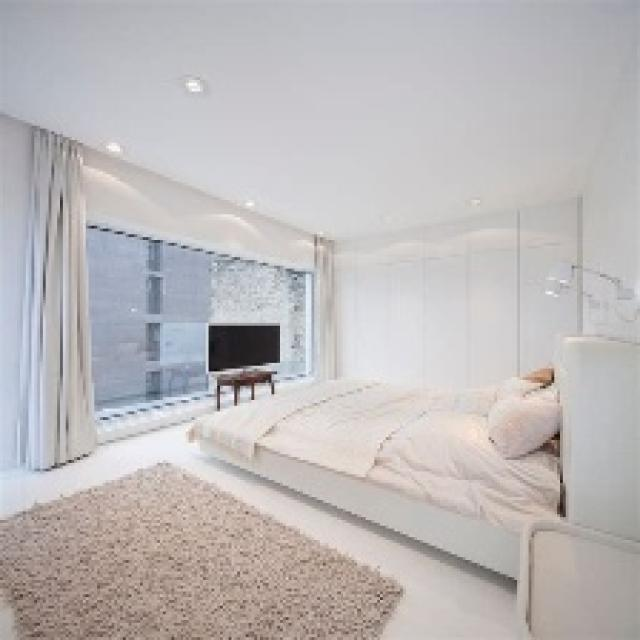Bed: (186, 368, 563, 583)
